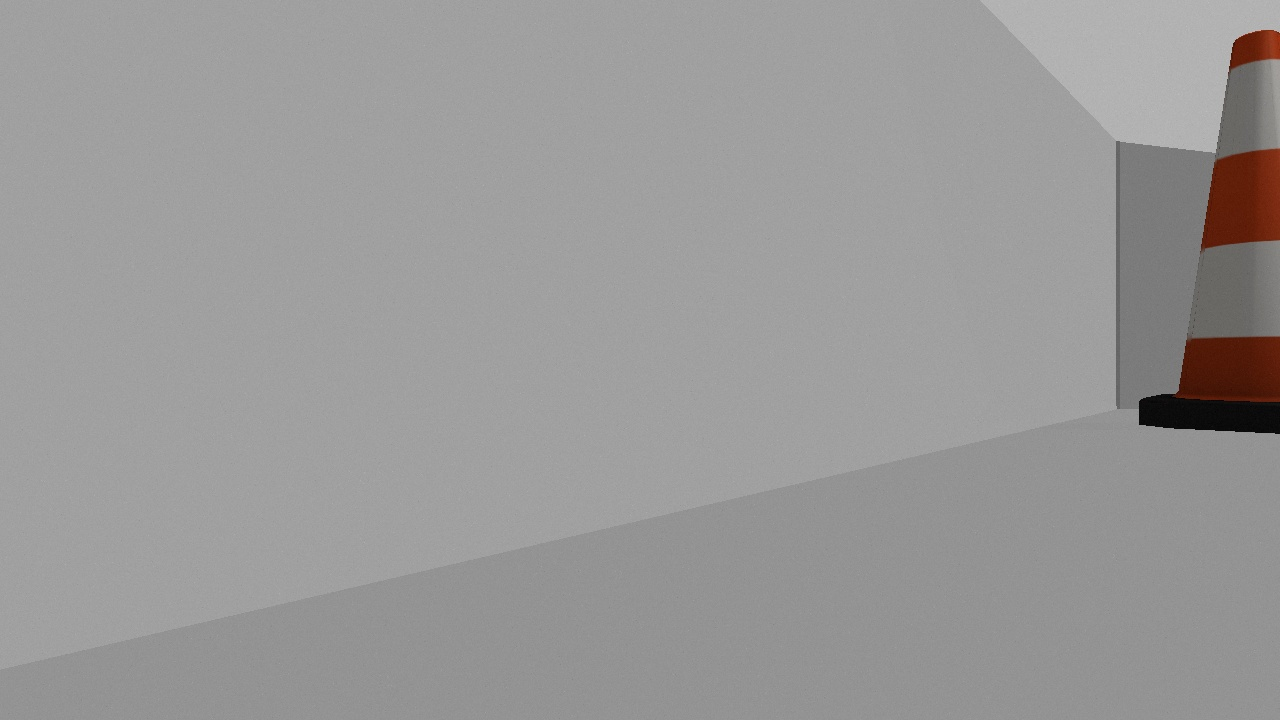barricade: (1118, 24, 1280, 455)
